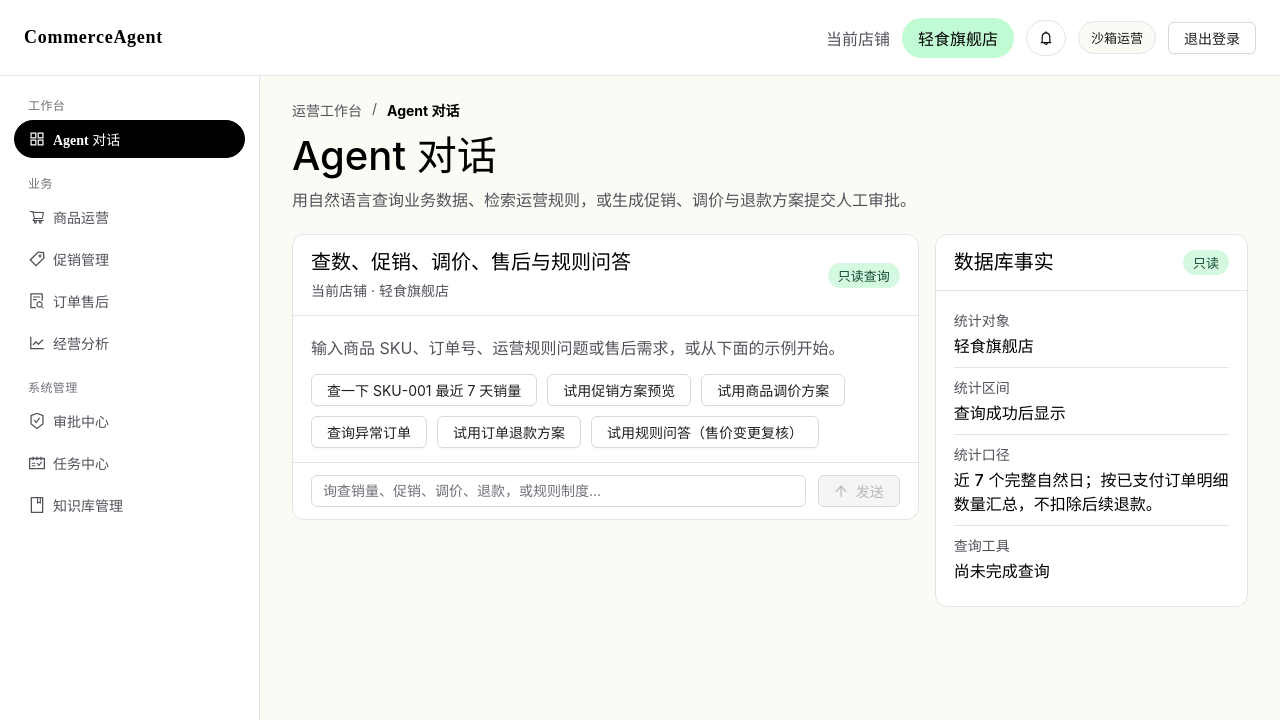
Scenario: renders the authorized shop query result and its database evidence
In the field named "输入查数问题": (558,491) [311,475,806,507], type "SKU-001 最近 7 天卖了多少件？"
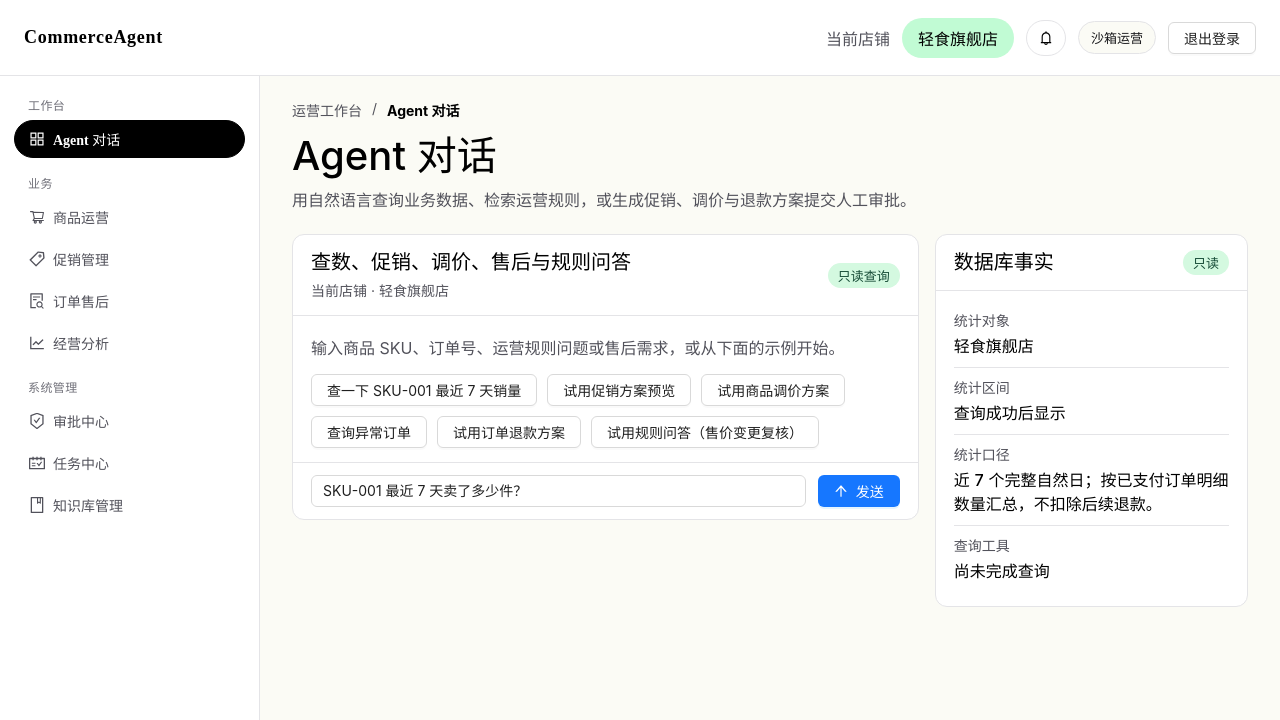
Click the button "发送": (859,491) [818,475,900,507]
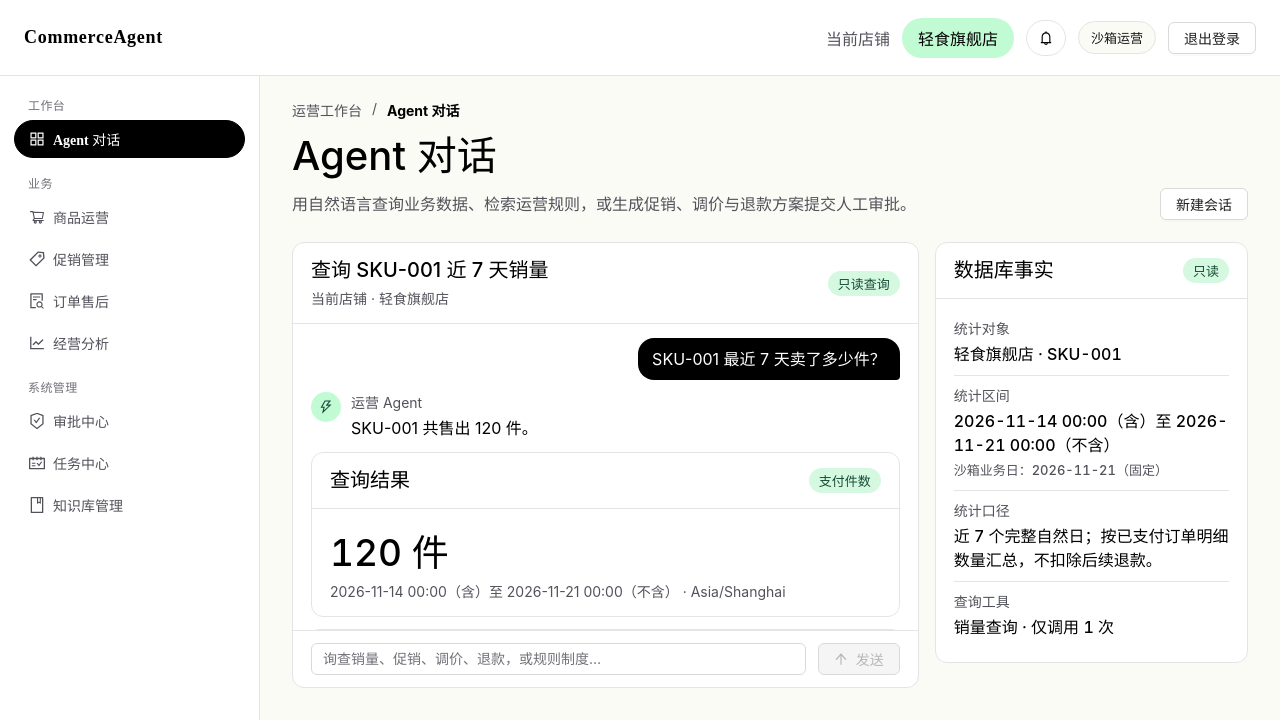
Result: the text "120 件" is shown at [330,530,449,575]
Result: the element "数据库事实" shows "2026-11-14 00:00（含）至 2026-11-21 00:00（不含）" at [954,411,1228,455]
Result: the text "销量查询 · 仅调用 1 次" is shown at [954,616,1114,636]
